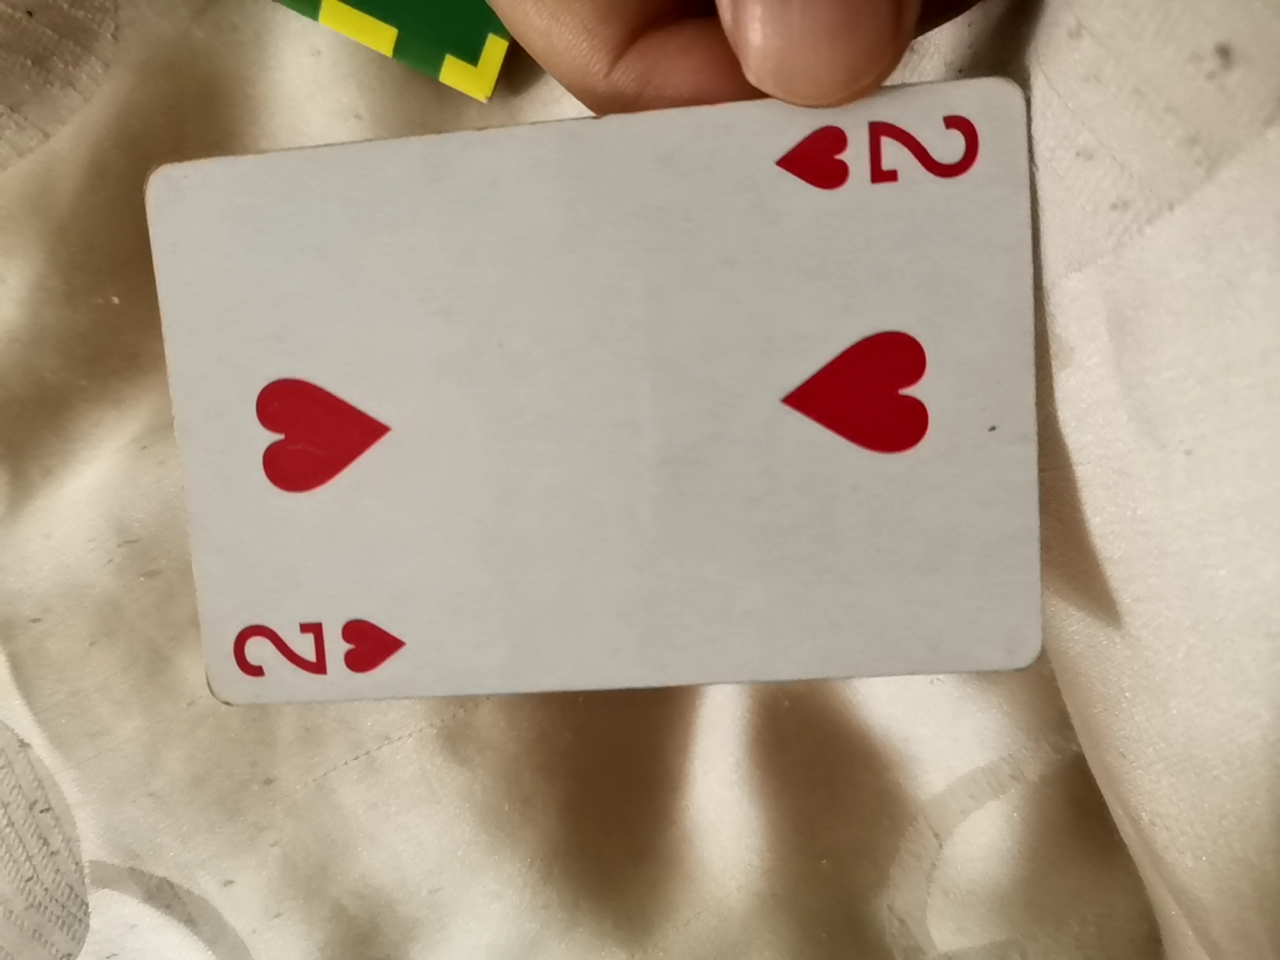hx 2: (128, 78, 1043, 721)
